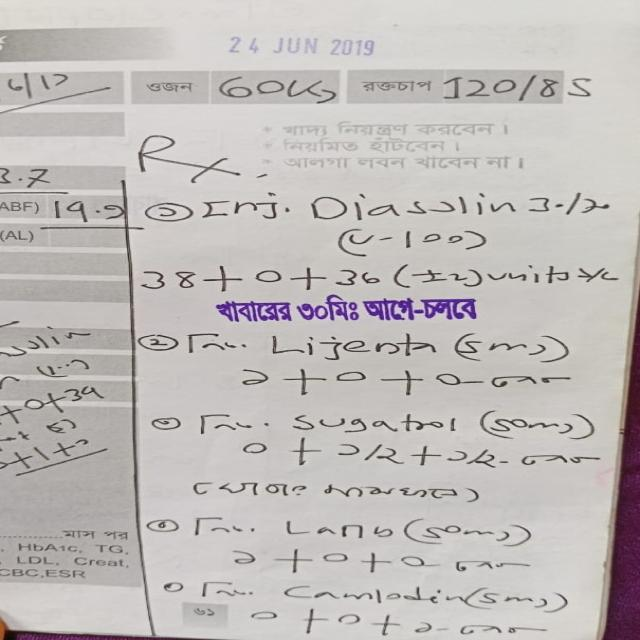Camlodin: (267, 578, 483, 613)
Diasulin: (300, 186, 532, 224)
Larb: (267, 512, 405, 550)
Lijenta: (260, 325, 458, 364)
Sugatrol: (274, 401, 480, 443)
